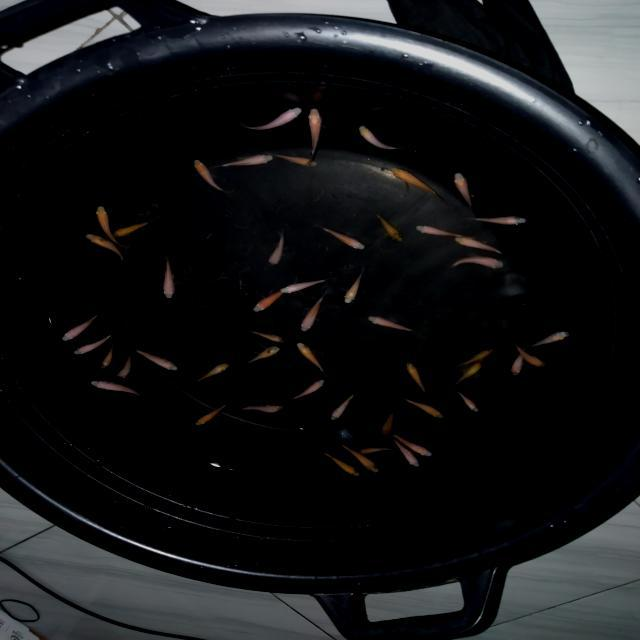nila: (386, 164, 454, 209), (236, 100, 305, 134), (314, 220, 372, 255), (333, 436, 382, 477), (70, 326, 128, 359), (200, 150, 276, 174), (92, 202, 126, 254), (61, 304, 105, 344), (80, 230, 128, 264), (83, 379, 147, 403), (251, 284, 298, 316), (298, 286, 328, 336), (449, 167, 479, 217), (308, 100, 330, 166), (316, 448, 361, 480), (190, 158, 227, 194), (510, 339, 550, 372), (414, 220, 479, 240), (294, 340, 328, 378), (357, 124, 403, 152), (156, 253, 182, 302), (362, 314, 419, 336), (371, 210, 404, 248), (134, 348, 182, 374), (396, 396, 444, 421), (387, 439, 423, 472), (279, 274, 333, 296), (342, 266, 369, 308), (391, 435, 436, 460), (453, 234, 509, 254), (191, 359, 232, 386), (326, 393, 358, 426), (192, 401, 226, 432), (444, 257, 514, 272), (264, 228, 290, 268), (272, 150, 321, 171), (452, 346, 498, 368), (526, 328, 572, 350), (452, 363, 490, 388), (244, 344, 282, 369), (290, 379, 327, 404), (402, 362, 428, 396), (469, 212, 532, 226), (114, 217, 154, 239), (510, 335, 528, 380), (454, 387, 482, 415), (97, 342, 122, 372), (245, 328, 285, 346), (237, 402, 287, 416), (115, 351, 136, 382), (380, 408, 400, 439), (354, 444, 392, 456)
